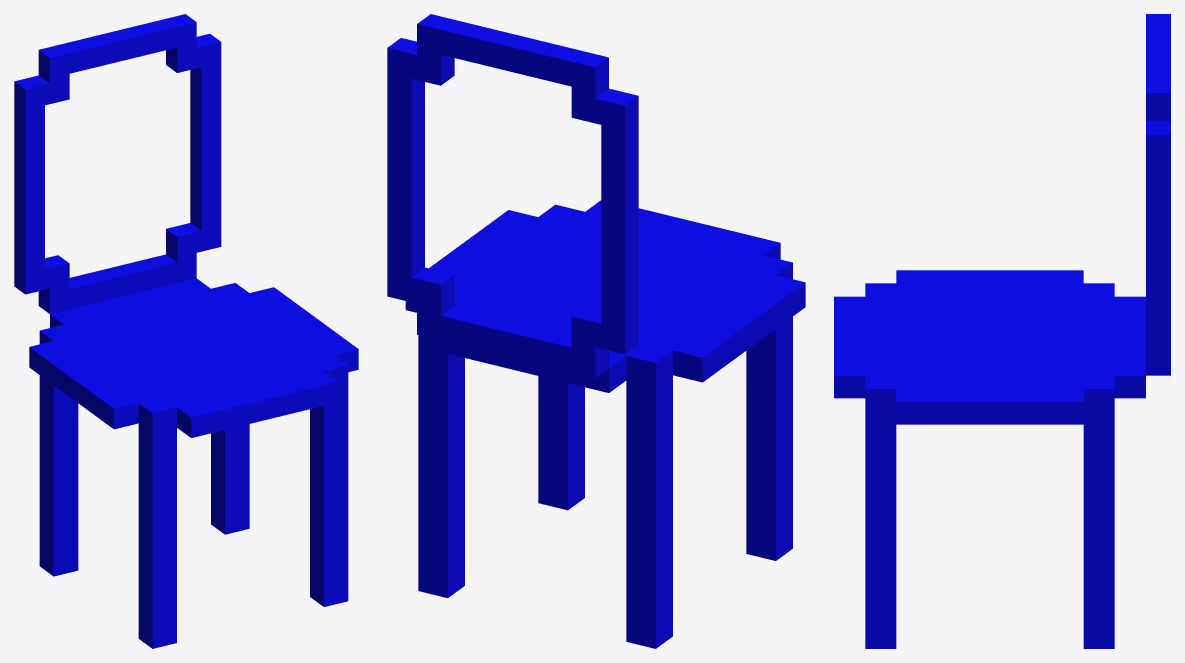
Rendered from pixelblu.glb.
3 views of the same model, side by side, from view 1: azimuth 30°, elevation 25°; view 2: azimuth 150°, elevation 25°; view 3: azimuth 270°, elevation 25° (orthographic). The views are drawn at different scales.
Visible parts, largest first — view 1: pixelChair; view 2: pixelChair; view 3: pixelChair.
Boxes of the visible parts, x1,y1,x2,y2 form: pixelChair: (14, 14, 358, 648); pixelChair: (387, 14, 805, 648); pixelChair: (834, 14, 1170, 648).
Size of the model in its own units: 0.4938 by 0.9481 by 0.5333.
